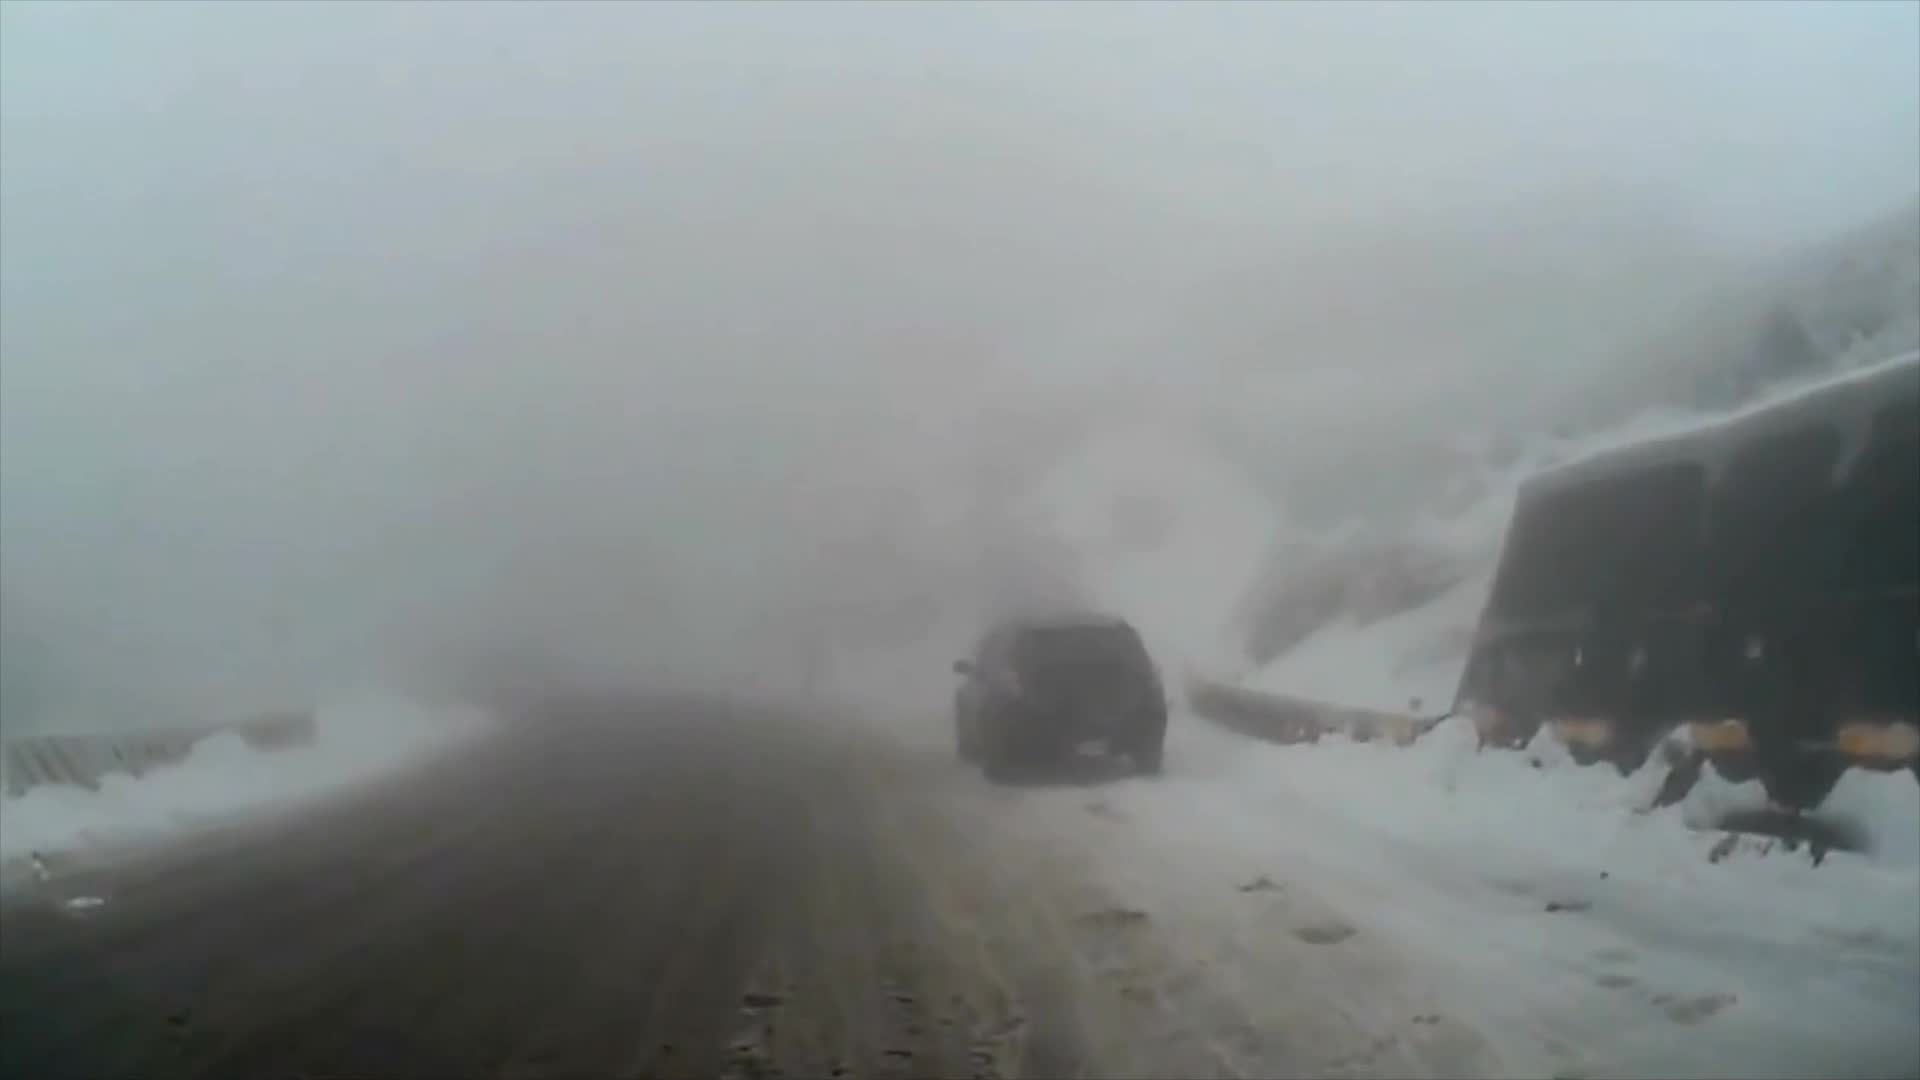vehicle: (951, 607, 1168, 785)
